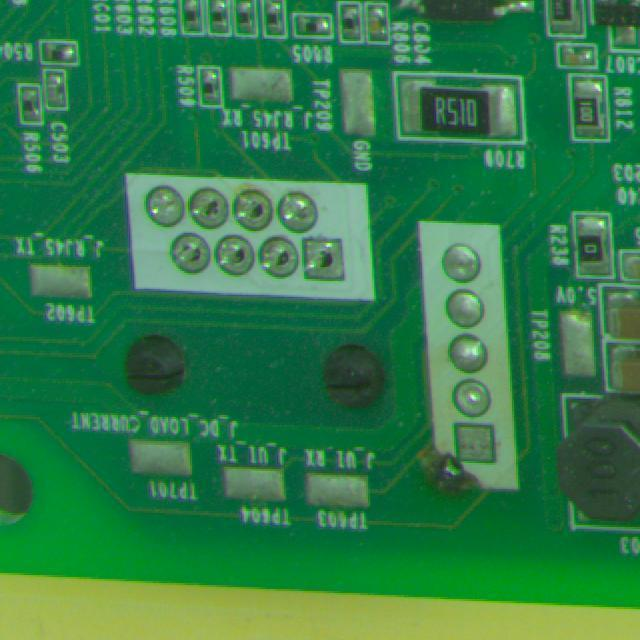Insufficient solder: (300, 236, 360, 285), (255, 234, 303, 288), (230, 188, 278, 231), (147, 180, 186, 232), (216, 234, 256, 284), (186, 185, 232, 228), (171, 234, 210, 278), (285, 194, 327, 234)
